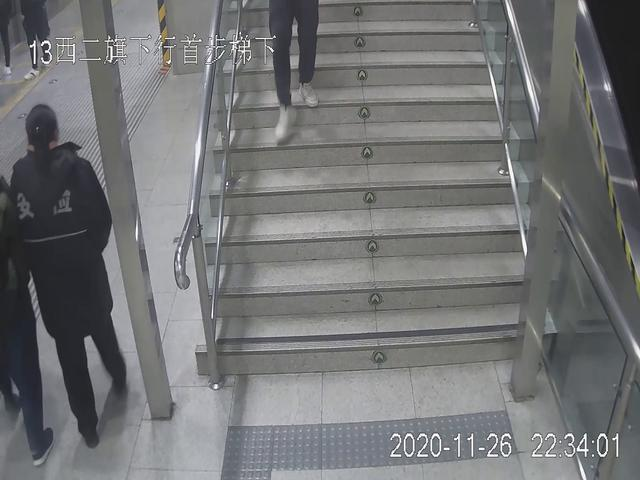person: (5, 102, 140, 455)
